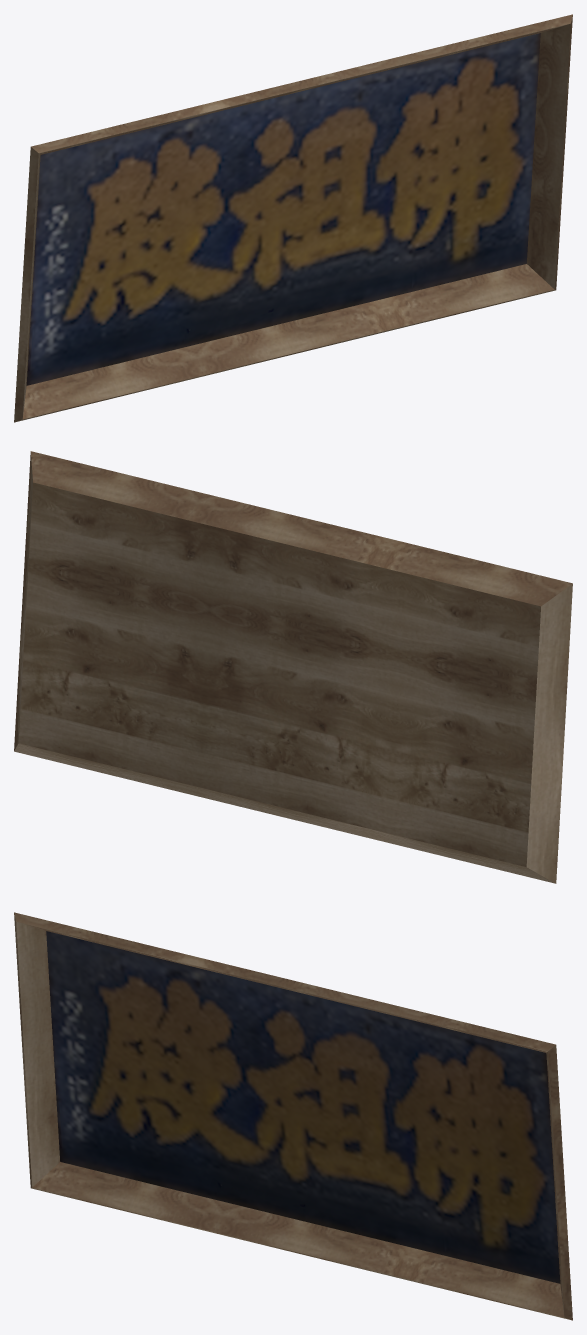
The model's file is SM_Sun_Bul_Sign.fbx.
3 renders of one model, top to bottom at view 1: azimuth 30°, elevation 25°; view 2: azimuth 150°, elevation 25°; view 3: azimuth 330°, elevation 25°, orthographic.
Parts seen in each view (by area): view 1: SM_Sun_Bul_Sign; view 2: SM_Sun_Bul_Sign; view 3: SM_Sun_Bul_Sign.
Part boxes in pixels (x1,y1,x2,y2): SM_Sun_Bul_Sign: (14, 14, 572, 422); SM_Sun_Bul_Sign: (14, 451, 572, 883); SM_Sun_Bul_Sign: (14, 912, 572, 1320).
Size of the model in its own units: 81.33 by 41.31 by 8.37.
